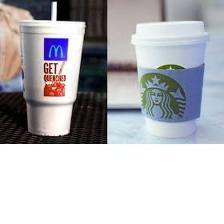paper_cup: (125, 14, 214, 141), (14, 15, 90, 140)
